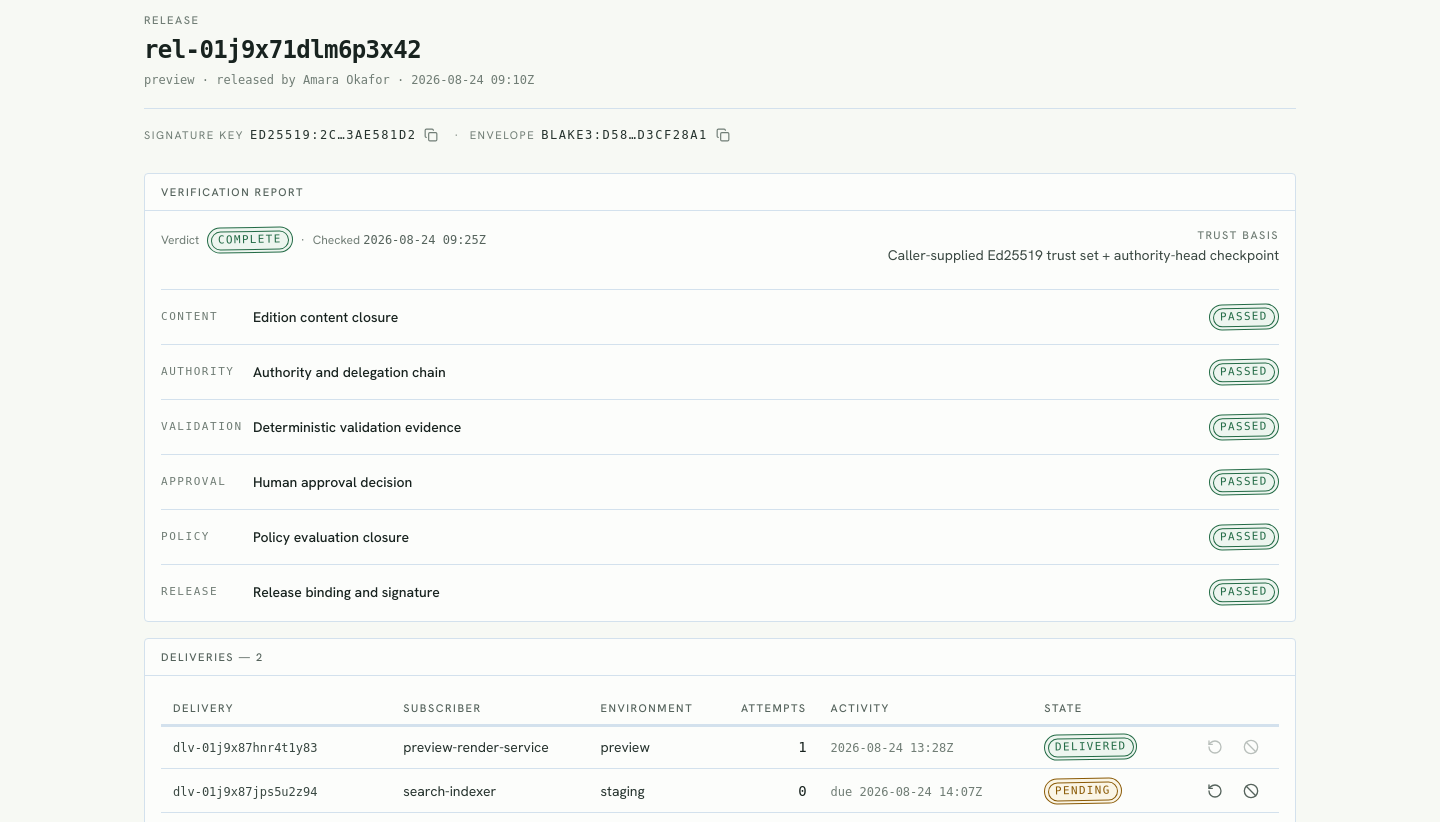
Test case: ReleaseDetailPage › queues a replay for an actionable delivery by toast
Click the button named "Replay delivery dlv-01j9x87jps5u2z94" at (1215, 790), box [1199,774,1231,806]
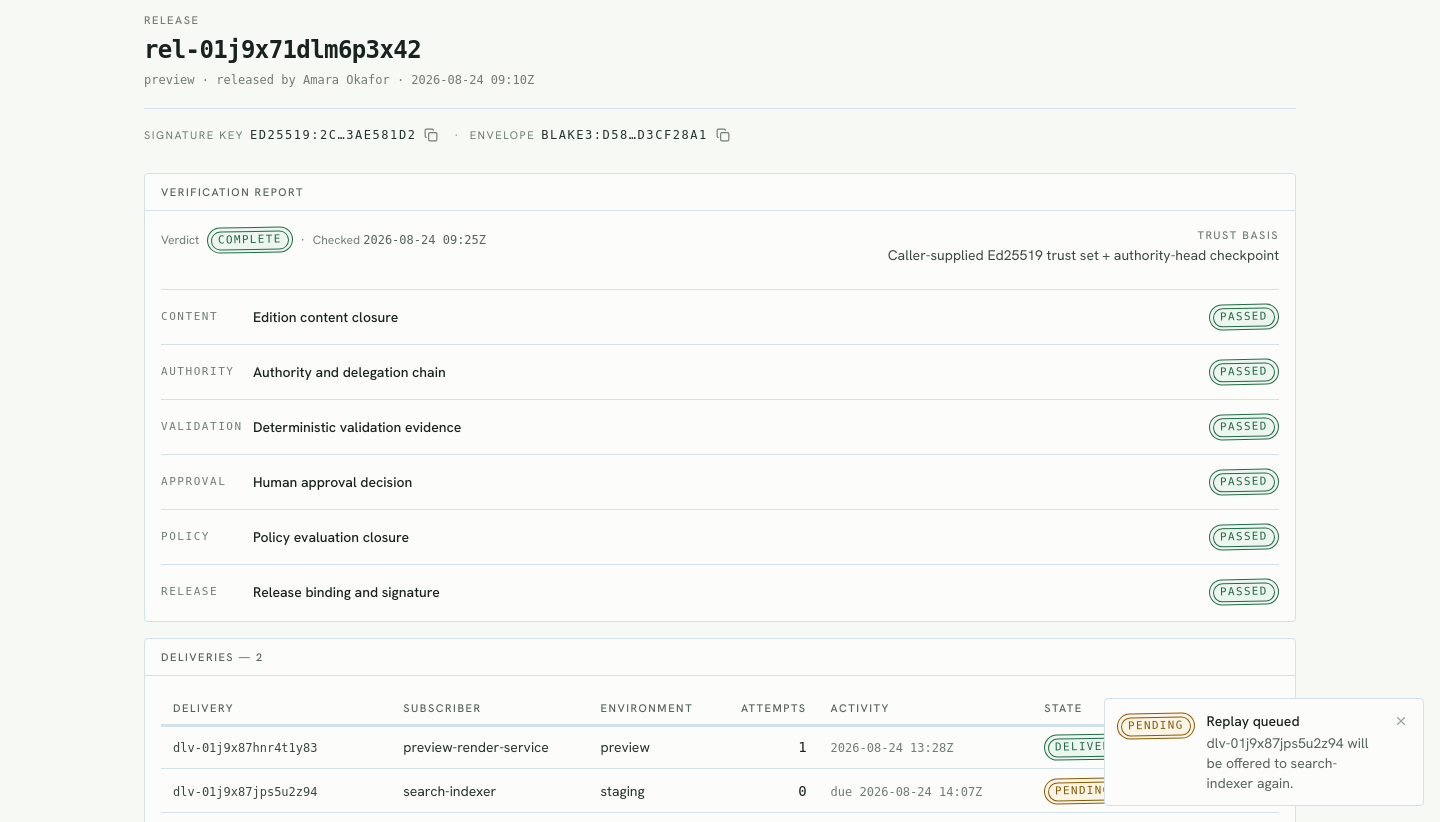
Now the text "Replay queued" is shown, box [1207,712,1300,730]
